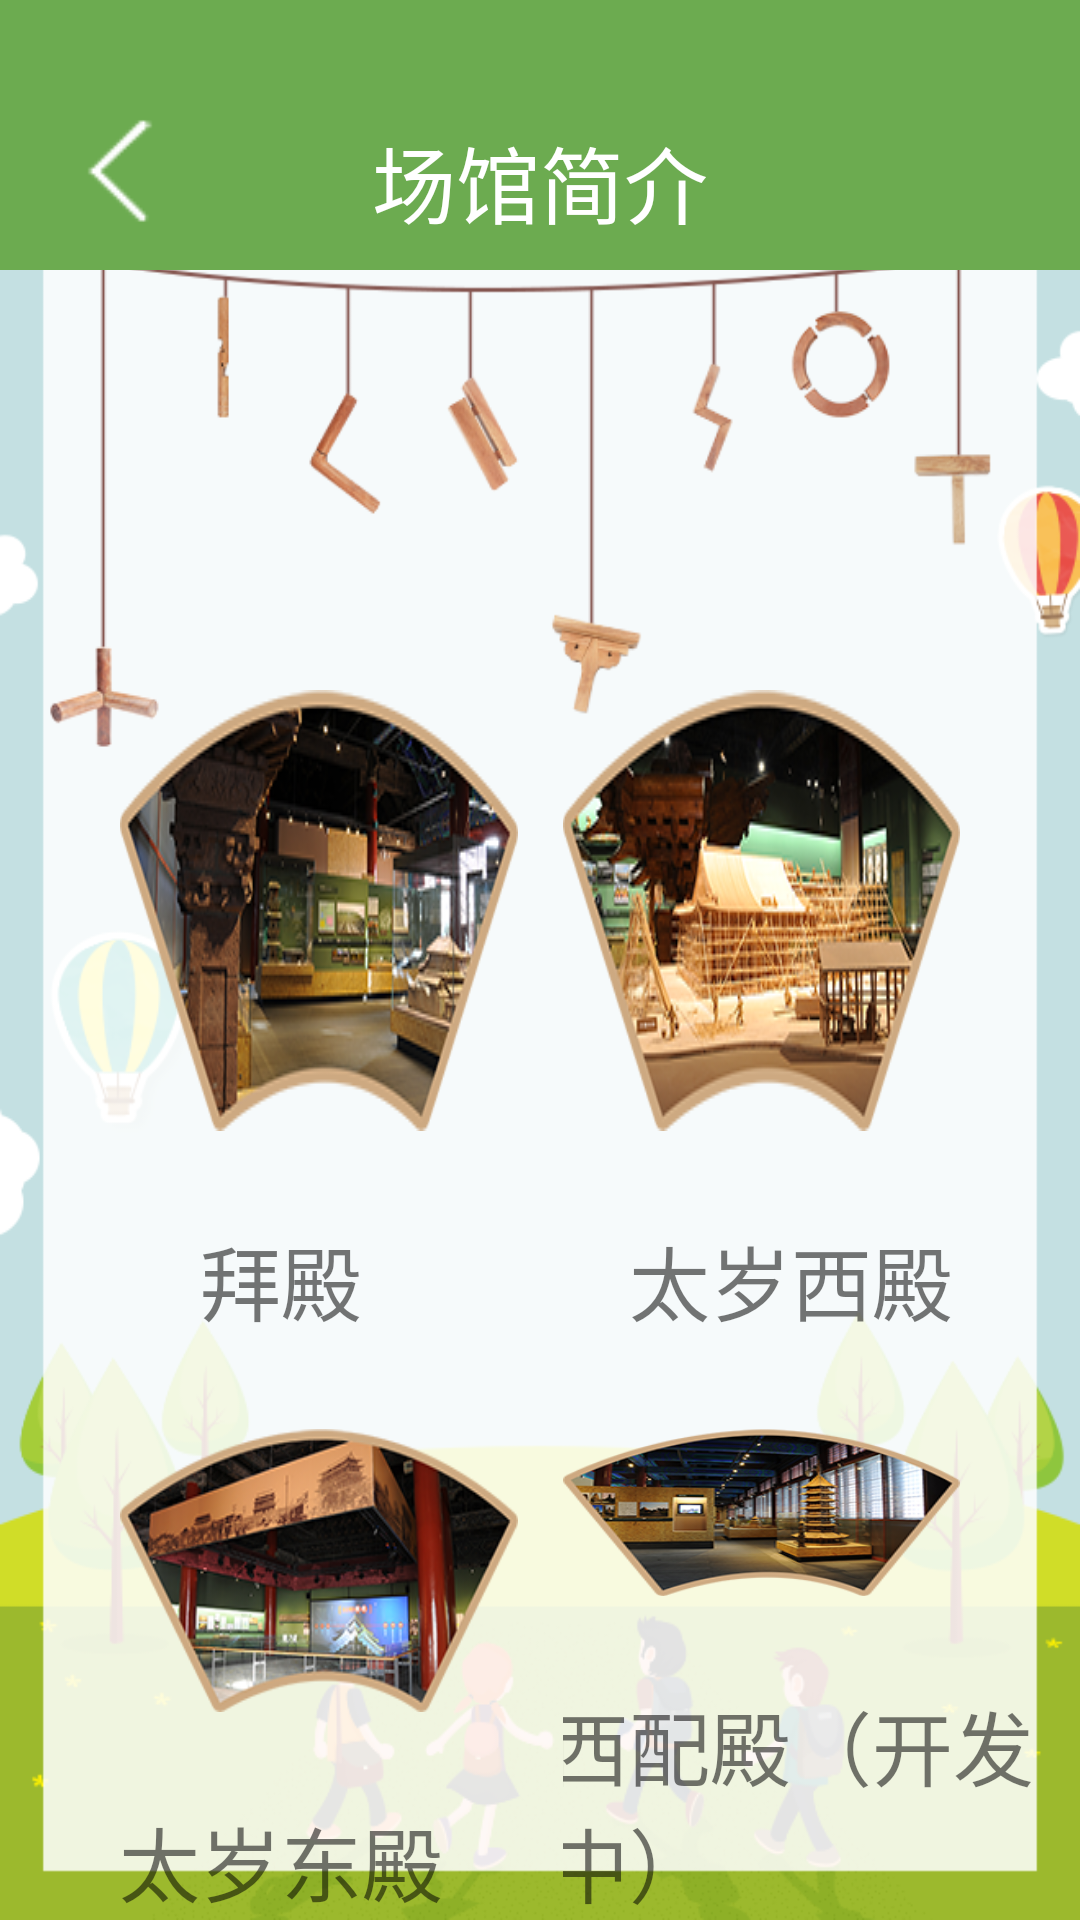

Named icons in this screenshot (1080*1920) and their bounding boxes, (x1, y1, x2, y2):
dao back: (88, 120, 152, 222)
